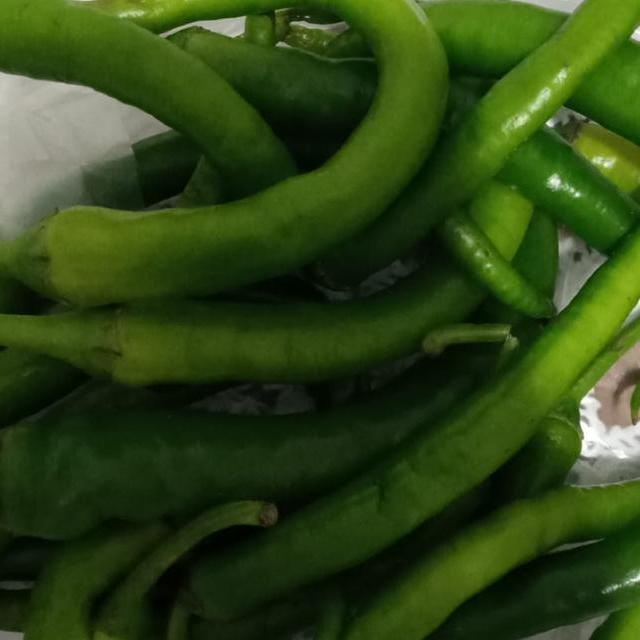chili_pepper: (162, 155, 640, 640), (0, 322, 480, 585)
